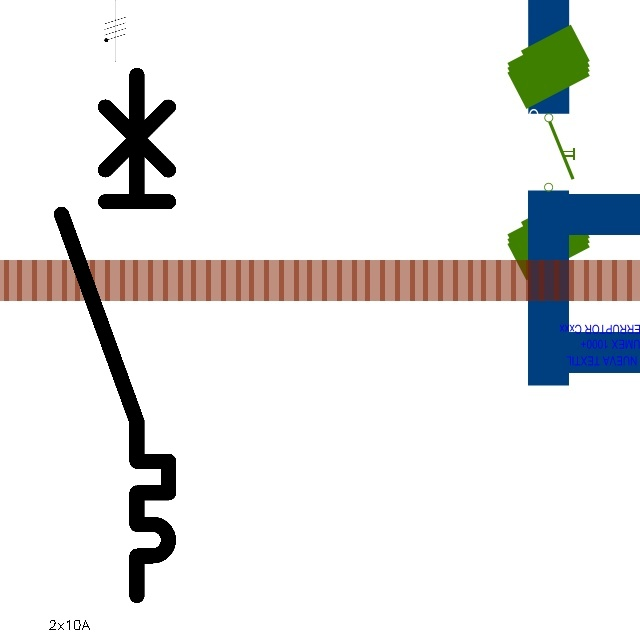interruptor_termomagnetico: (48, 61, 182, 608)
